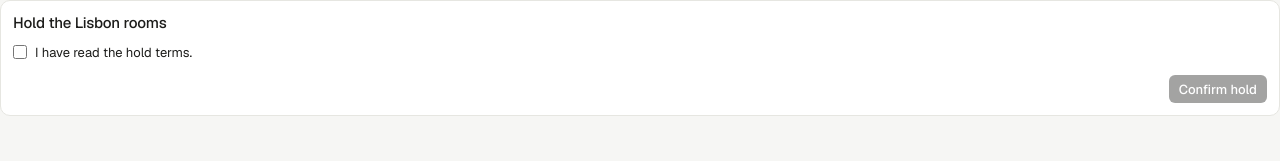
Test: components › blocks confirm until the acknowledgement is checked
expect the button "Confirm hold" is disabled: met, box [1169, 75, 1267, 103]
Click the checkbox at (20, 52), box [13, 45, 27, 59]
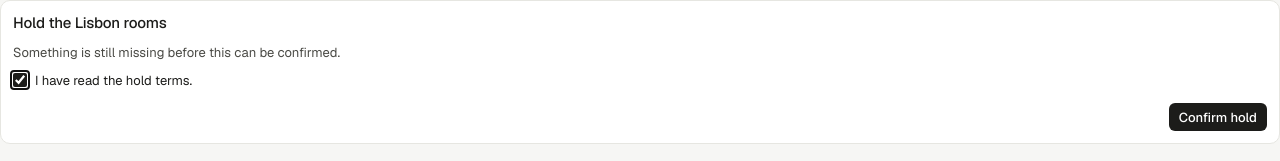
expect the button "Confirm hold" is enabled: met, box [1169, 103, 1267, 131]
